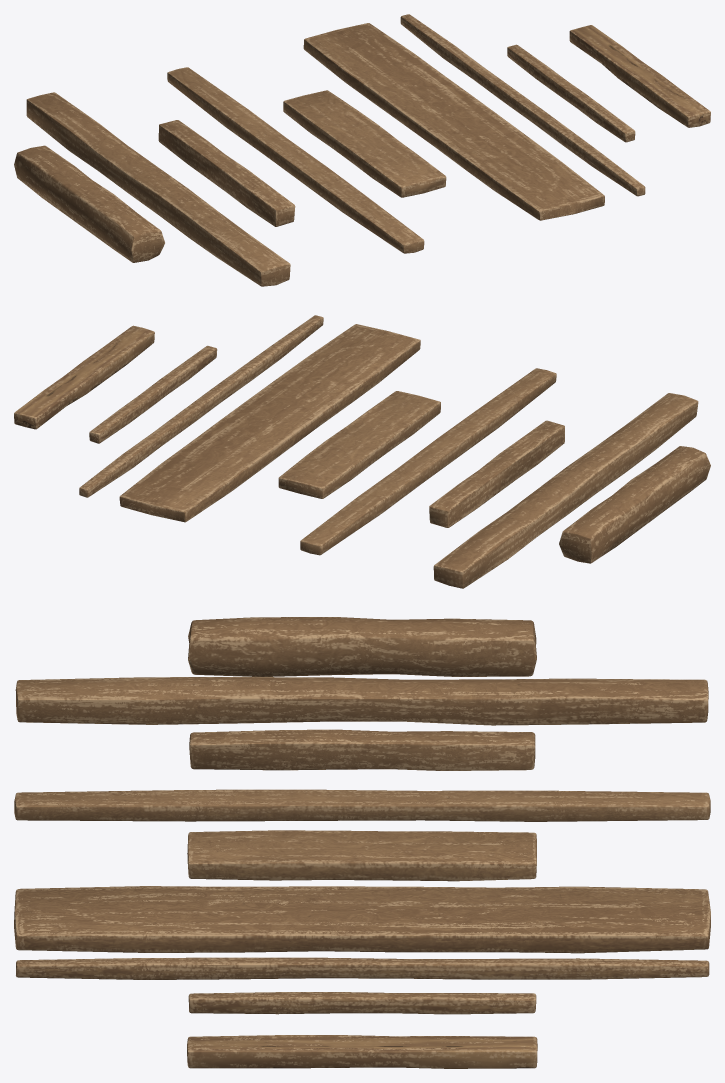
3 views of the same model, one above another, from view 1: azimuth 30°, elevation 25°; view 2: azimuth 150°, elevation 25°; view 3: azimuth 270°, elevation 25° (orthographic). The views are drawn at different scales.
Parts seen in each view (by area): view 1: 2x12x6, 4x6x6, 2x4x6, 2x8x3, 6x6x3, 2x2x6, 4x4x3, 2x4x3, 2x2x3; view 2: 2x12x6, 4x6x6, 2x4x6, 6x6x3, 2x8x3, 2x2x6, 4x4x3, 2x4x3, 2x2x3; view 3: 2x12x6, 4x6x6, 2x4x6, 6x6x3, 2x8x3, 2x2x6, 4x4x3, 2x4x3, 2x2x3.
Boxes of the visible parts, bbox=[...] form: 2x12x6: bbox=[303, 23, 604, 220]; 4x6x6: bbox=[26, 92, 290, 286]; 2x4x6: bbox=[167, 67, 424, 253]; 2x8x3: bbox=[283, 90, 446, 197]; 6x6x3: bbox=[14, 145, 164, 262]; 2x2x6: bbox=[400, 14, 645, 196]; 4x4x3: bbox=[158, 120, 295, 226]; 2x4x3: bbox=[569, 25, 710, 127]; 2x2x3: bbox=[507, 44, 635, 142]; 2x12x6: bbox=[119, 324, 420, 522]; 4x6x6: bbox=[433, 393, 698, 588]; 2x4x6: bbox=[300, 368, 556, 555]; 6x6x3: bbox=[559, 446, 710, 563]; 2x8x3: bbox=[278, 391, 440, 498]; 2x2x6: bbox=[79, 315, 323, 497]; 4x4x3: bbox=[429, 420, 564, 527]; 2x4x3: bbox=[14, 325, 154, 429]; 2x2x3: bbox=[89, 345, 217, 443]; 2x12x6: bbox=[14, 886, 710, 953]; 4x6x6: bbox=[15, 677, 708, 725]; 2x4x6: bbox=[14, 789, 710, 821]; 6x6x3: bbox=[188, 617, 536, 676]; 2x8x3: bbox=[187, 830, 536, 881]; 2x2x6: bbox=[16, 957, 709, 979]; 4x4x3: bbox=[189, 729, 535, 770]; 2x4x3: bbox=[187, 1035, 537, 1068]; 2x2x3: bbox=[188, 992, 536, 1014].
Size of the model in its own units: 257 by 14.34 by 182.
1 material, 1 textured.
